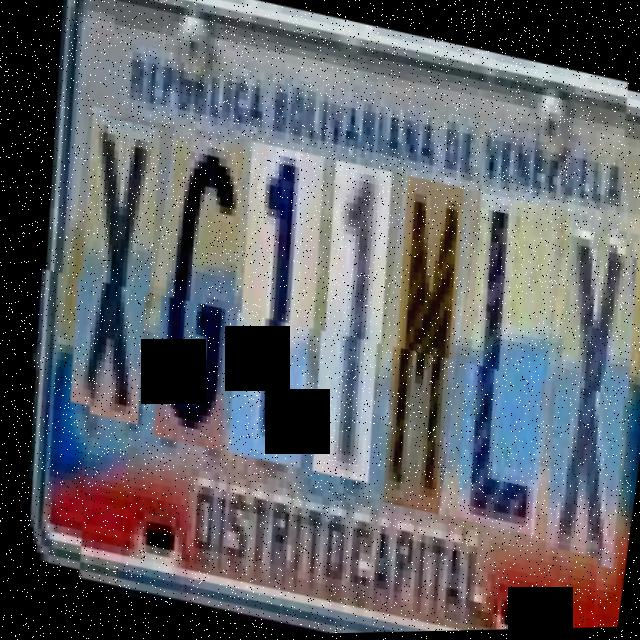1: (194, 137, 348, 467), (278, 156, 415, 481)
G: (119, 129, 266, 450)
L: (423, 186, 585, 532)
M: (347, 170, 489, 512)
X: (508, 205, 640, 556), (36, 112, 184, 424)
